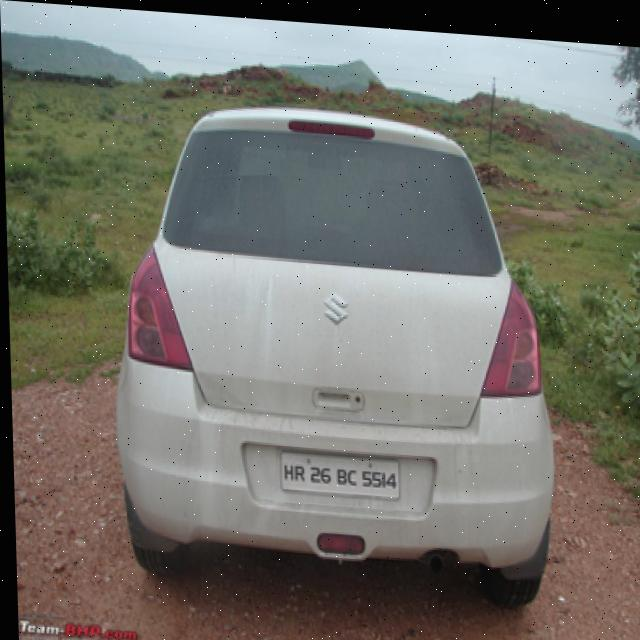plate: (273, 441, 399, 494)
